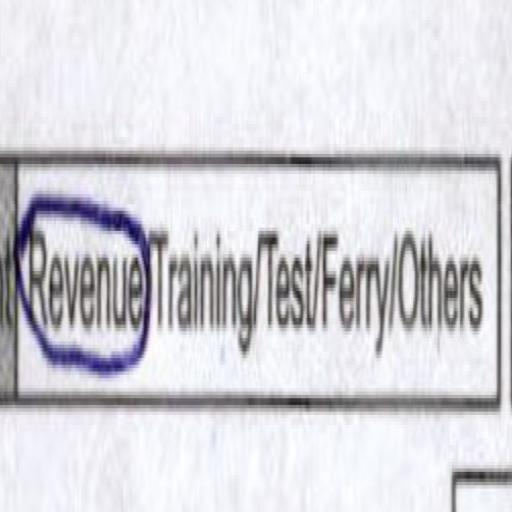check: (14, 94, 153, 426)
